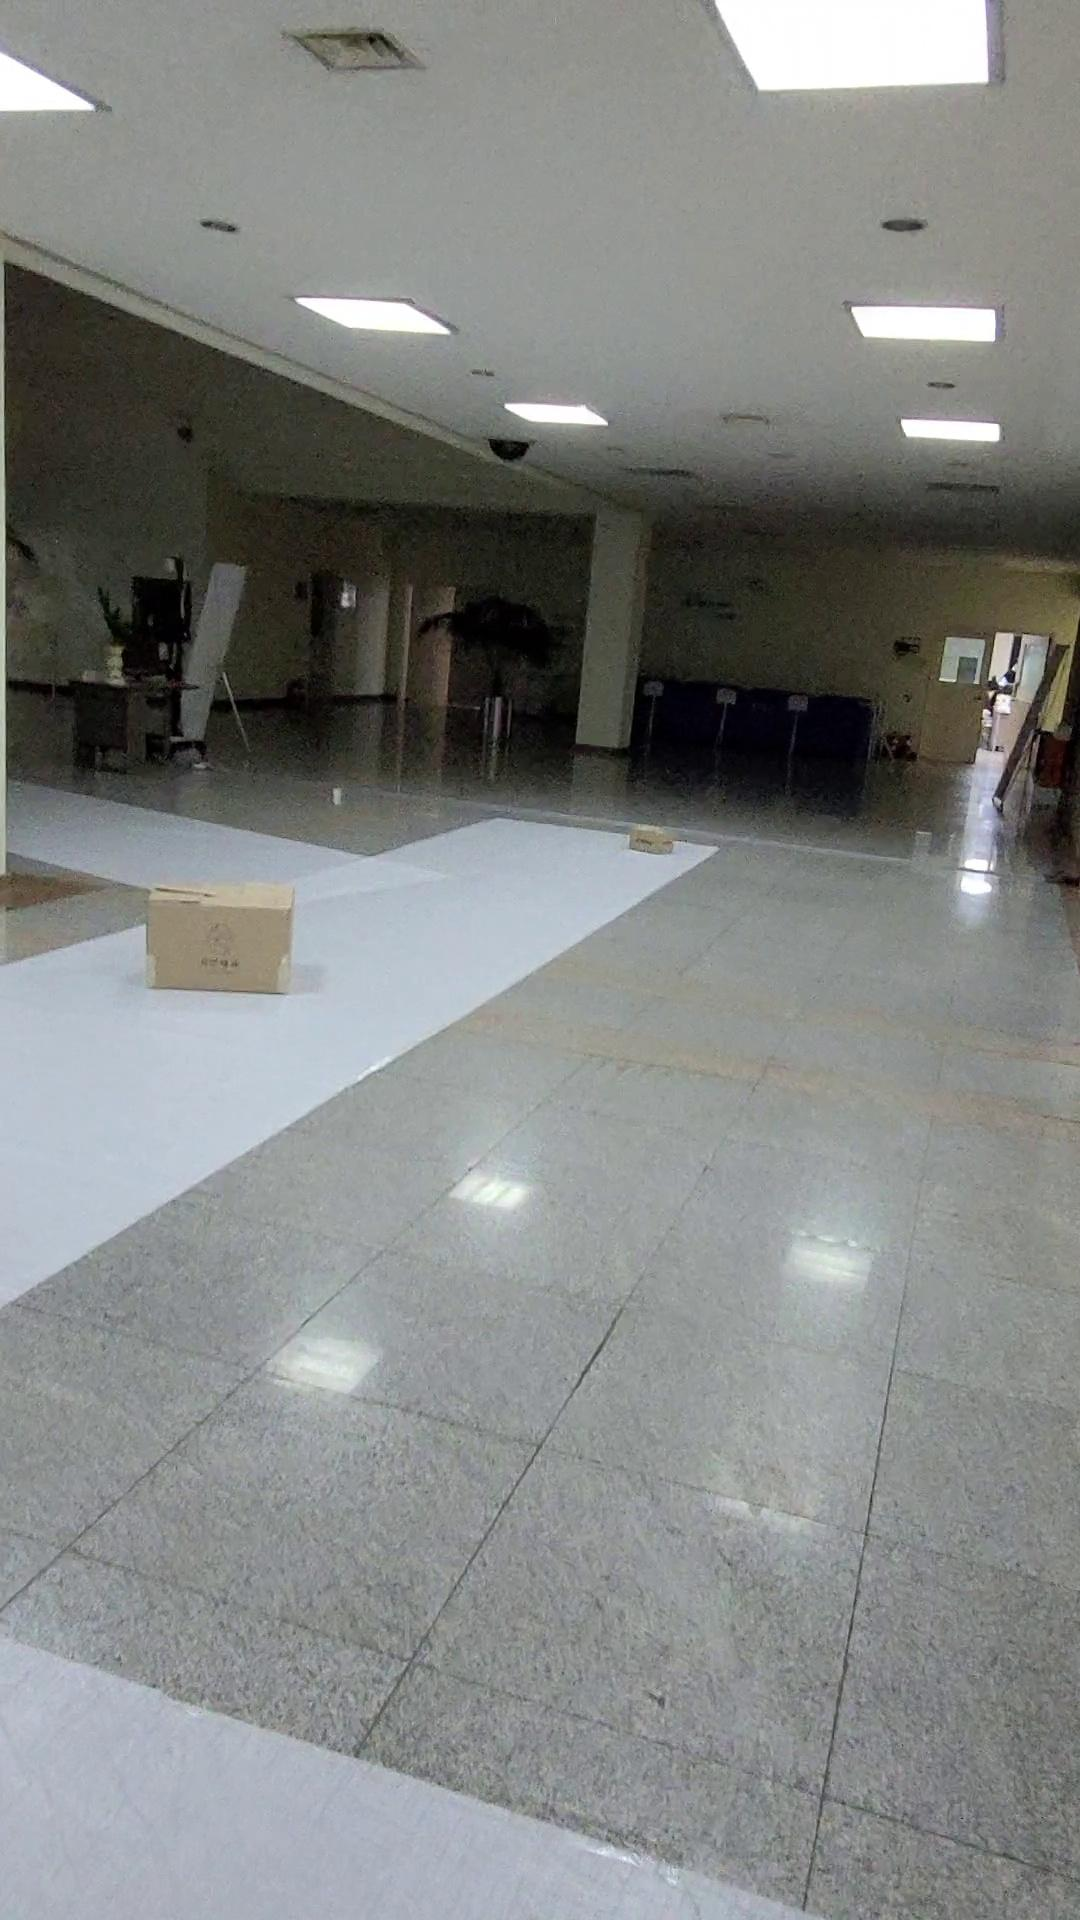Box: (128, 853, 324, 1018), (622, 815, 674, 862)
